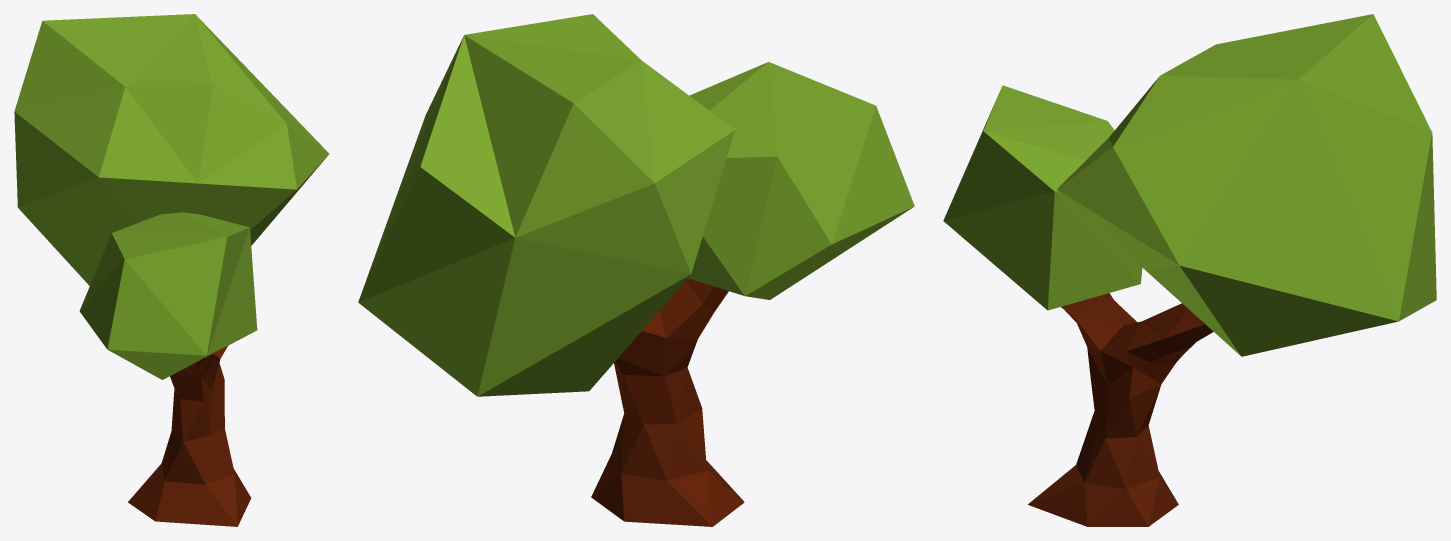
The model's file is trees.dae.
3 views of the same model, side by side, from view 1: azimuth 30°, elevation 25°; view 2: azimuth 150°, elevation 25°; view 3: azimuth 270°, elevation 25° (orthographic). The views are drawn at different scales.
Visible parts, largest first — view 1: Plane_001, Plane, Circle; view 2: Plane_001, Plane, Circle; view 3: Plane_001, Plane, Circle.
Part boxes in pixels (x1,y1,x2,y2): Plane_001: (14,14,329,285); Plane: (79,212,257,379); Circle: (128,346,251,526); Plane_001: (358,14,734,396); Plane: (688,62,914,299); Circle: (591,278,744,526); Plane_001: (1057,14,1436,356); Plane: (943,85,1142,310); Circle: (1028,293,1213,526).
Size of the model in its own units: 3.8 by 4.63 by 4.83.
